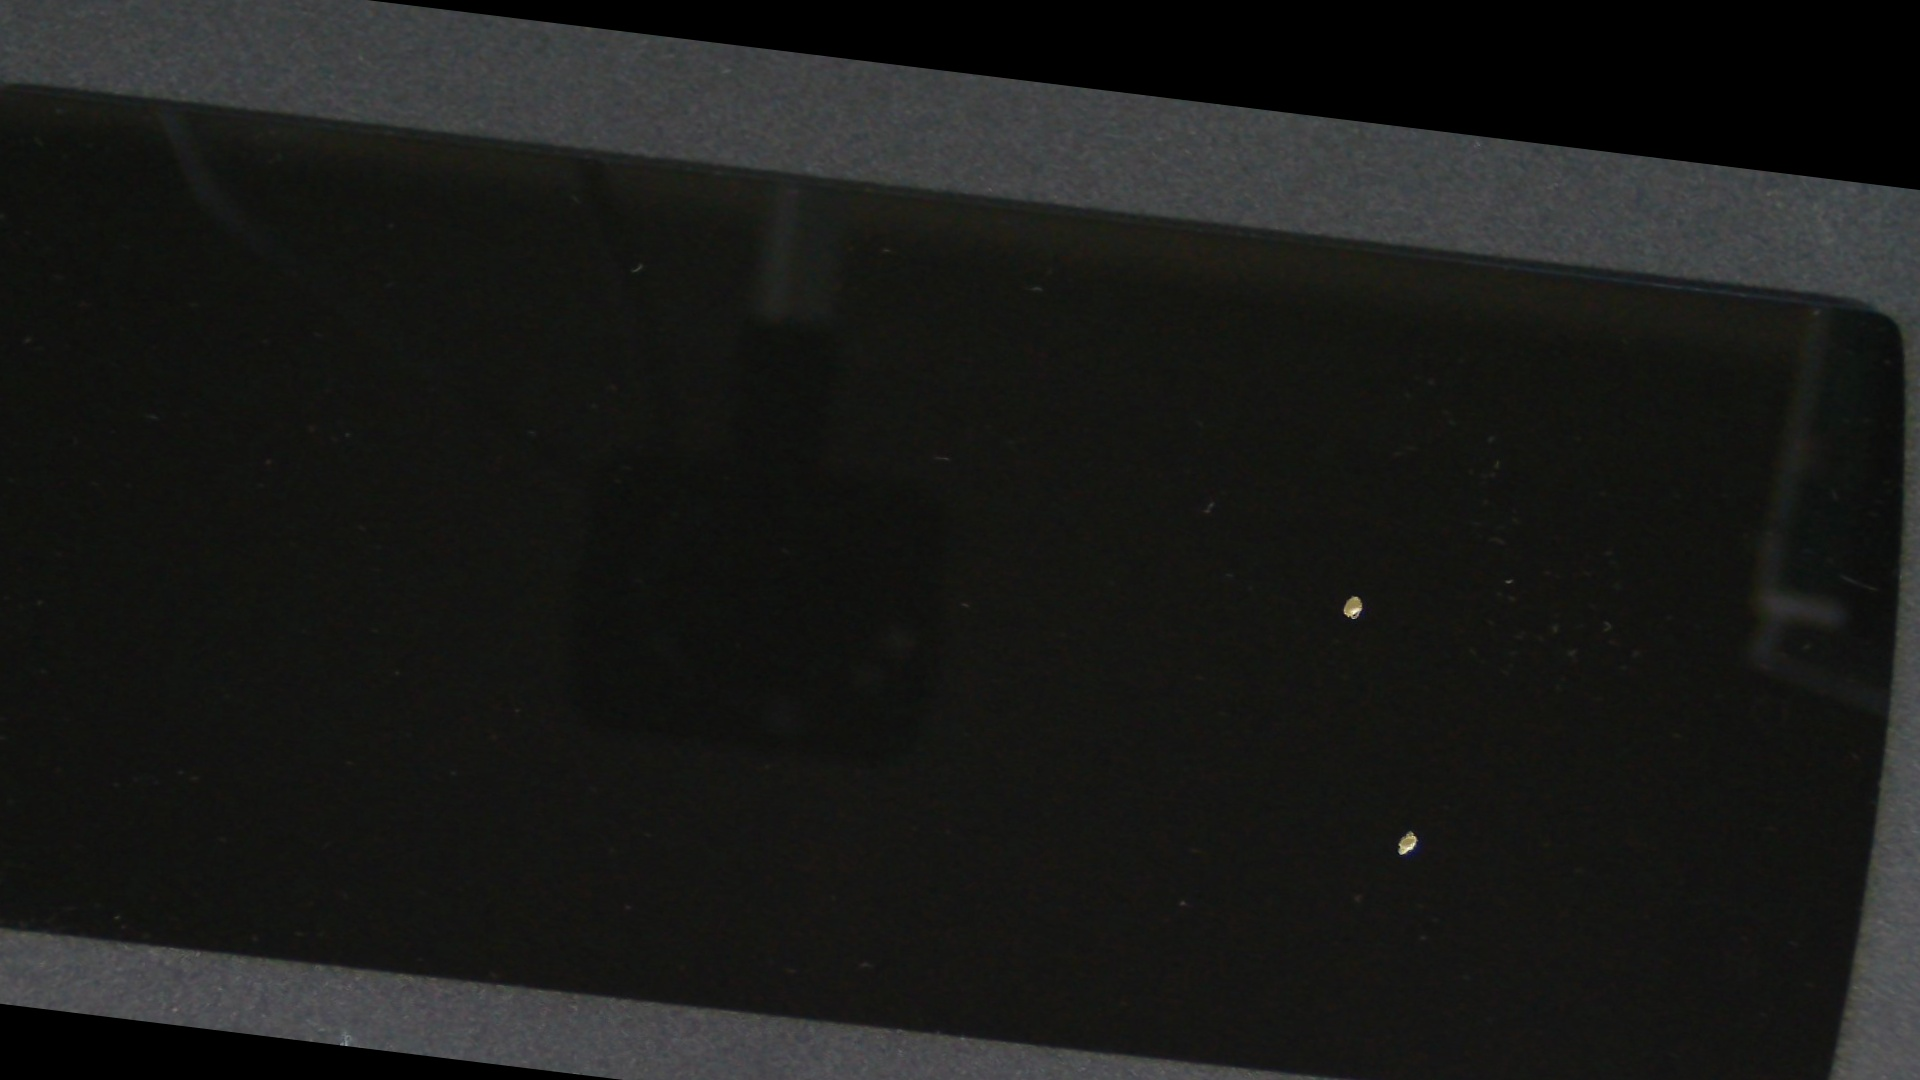oil: (539, 381, 1920, 1080), (537, 264, 1920, 906)
